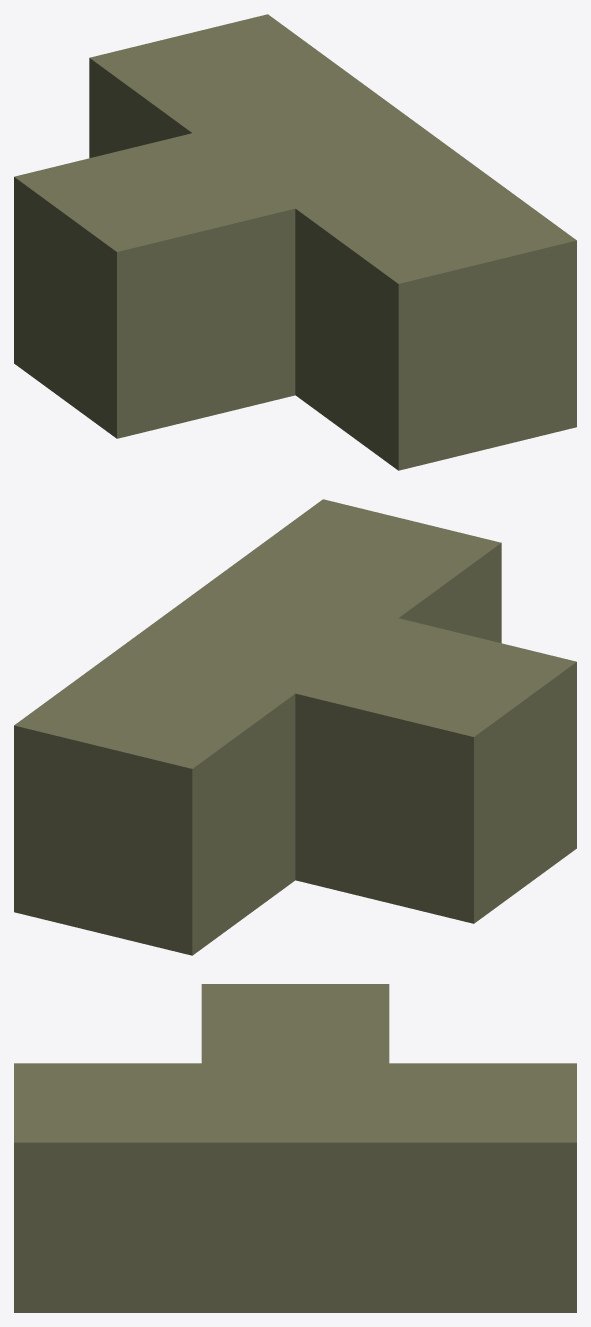
3 renders of one model, top to bottom at view 1: azimuth 30°, elevation 25°; view 2: azimuth 150°, elevation 25°; view 3: azimuth 270°, elevation 25°, orthographic. The views are drawn at different scales.
Visible parts, largest first — view 1: 右下; view 2: 右下; view 3: 右下.
Part boxes in pixels (bbox=[...]): 右下: bbox=[14, 14, 576, 470]; 右下: bbox=[14, 499, 576, 955]; 右下: bbox=[14, 984, 576, 1312].
Size of the model in its own units: 400 by 200 by 600.
